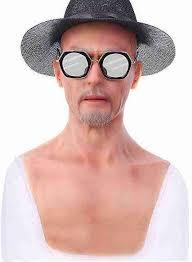cap: (15, 0, 183, 80)
sunglasses: (56, 46, 134, 81)
